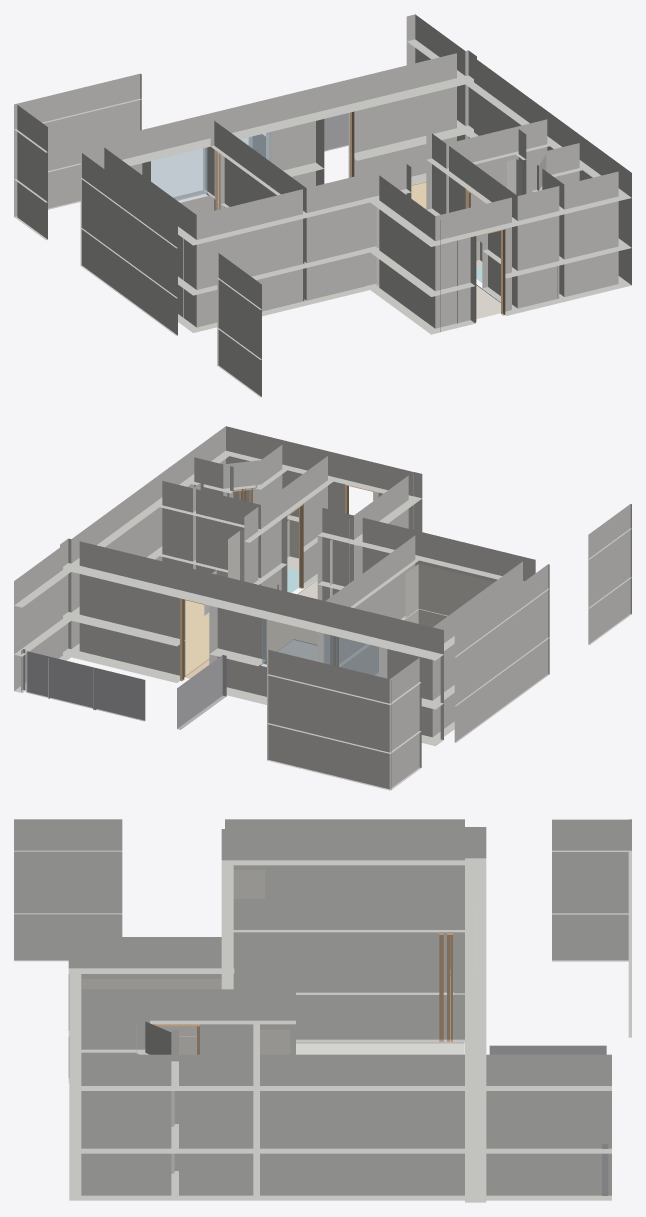
The picture shows the model from 3 angles, top to bottom: view 1: azimuth 30°, elevation 25°; view 2: azimuth 150°, elevation 25°; view 3: azimuth 270°, elevation 25°; orthographic projection. The views are drawn at different scales.
Visible parts, largest first — view 1: walls, window_3, railings, door_0, floor_4_Entry; view 2: walls, railings, furniture_1_closet, window_2, window_3, floor_3_Kitchen, floor_2_Living_Room, furniture_0_closet, furniture_7_appliance, floor_1_Undefined; view 3: walls, floor_1_Undefined, furniture_3_closet, railings, furniture_1_closet, furniture_0_closet, door_8, door_7.
Boxes of the visible parts, x1,y1,x2,y2 form: walls: (14,14,631,397); window_3: (151,143,207,200); railings: (249,113,348,157); door_0: (475,229,505,321); floor_4_Entry: (476,284,500,318); walls: (14,426,631,790); railings: (21,649,226,729); furniture_1_closet: (405,564,493,627); window_2: (262,618,321,664); window_3: (323,633,378,676); floor_3_Kitchen: (185,599,209,675); floor_2_Living_Room: (185,620,316,678); furniture_0_closet: (228,531,244,581); furniture_7_appliance: (287,519,298,570); floor_1_Undefined: (277,639,316,661); walls: (14,819,631,1202); floor_1_Undefined: (296,1042,464,1054); furniture_3_closet: (81,979,221,1054); railings: (489,1045,608,1195); furniture_1_closet: (233,870,265,898); furniture_0_closet: (260,1029,290,1054); door_8: (447,932,452,1041); door_7: (439,932,443,1041).
Size of the model in its own units: 9.96 by 2.72 by 10.73.
